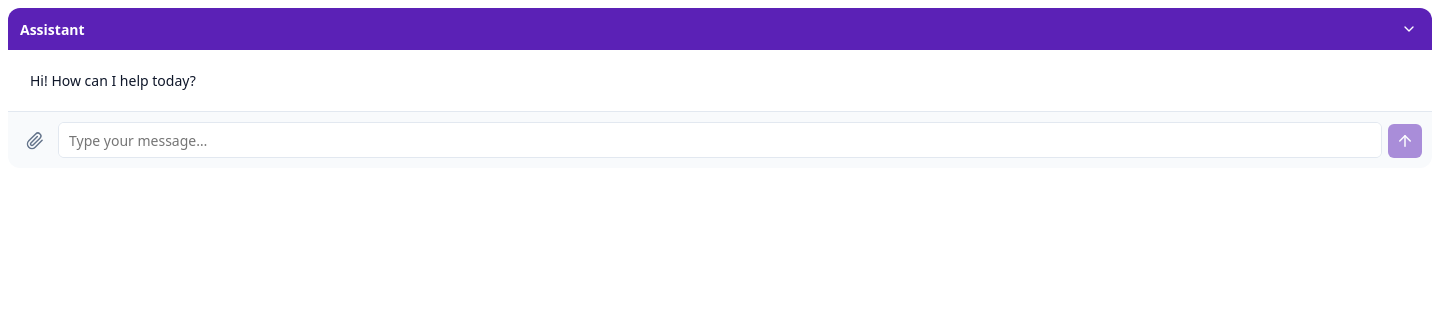
Test: React view — workspace files › renders a live turn's files: pictures inline, the rest as downloads
Type "chart it" into the text box at (720, 140), box 58,122 -> 1382,158
Then press Enter
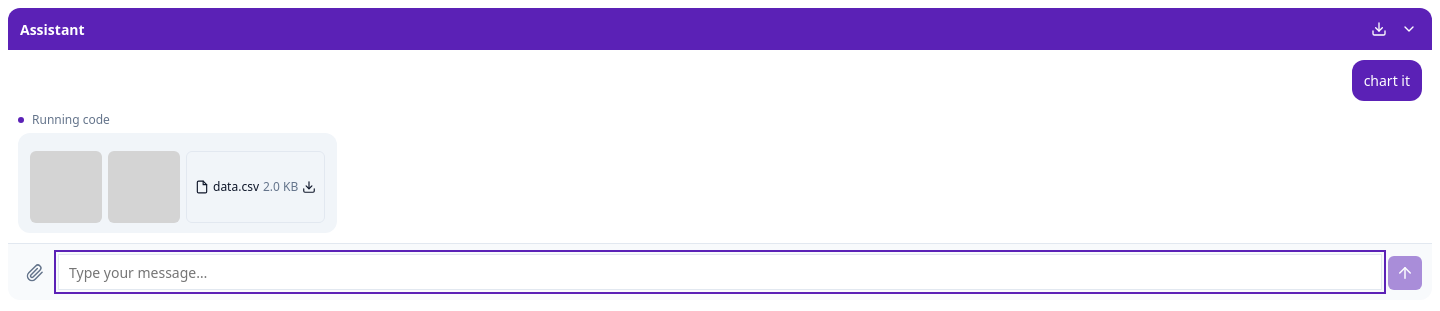
Expected: the element showing "data.csv 2.0 KB" is shown, 30,151 -> 325,223
Expected: the link "data.csv 2.0 KB" is shown, 186,151 -> 325,223
